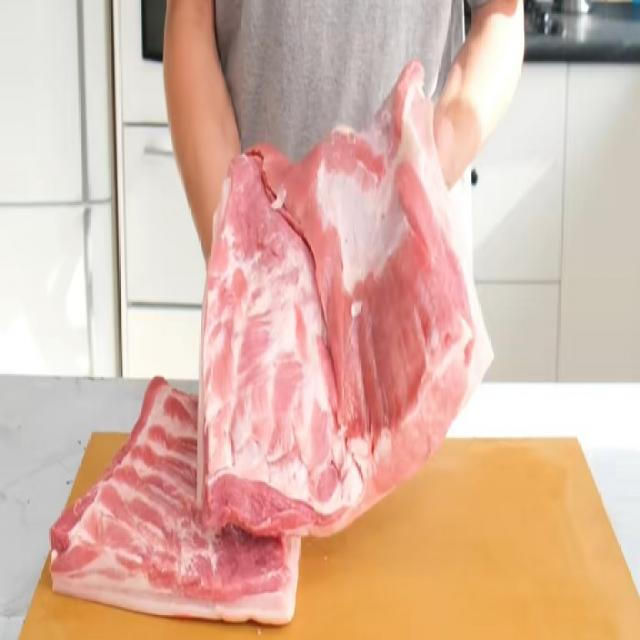pork: (191, 133, 478, 521), (66, 372, 310, 626)
